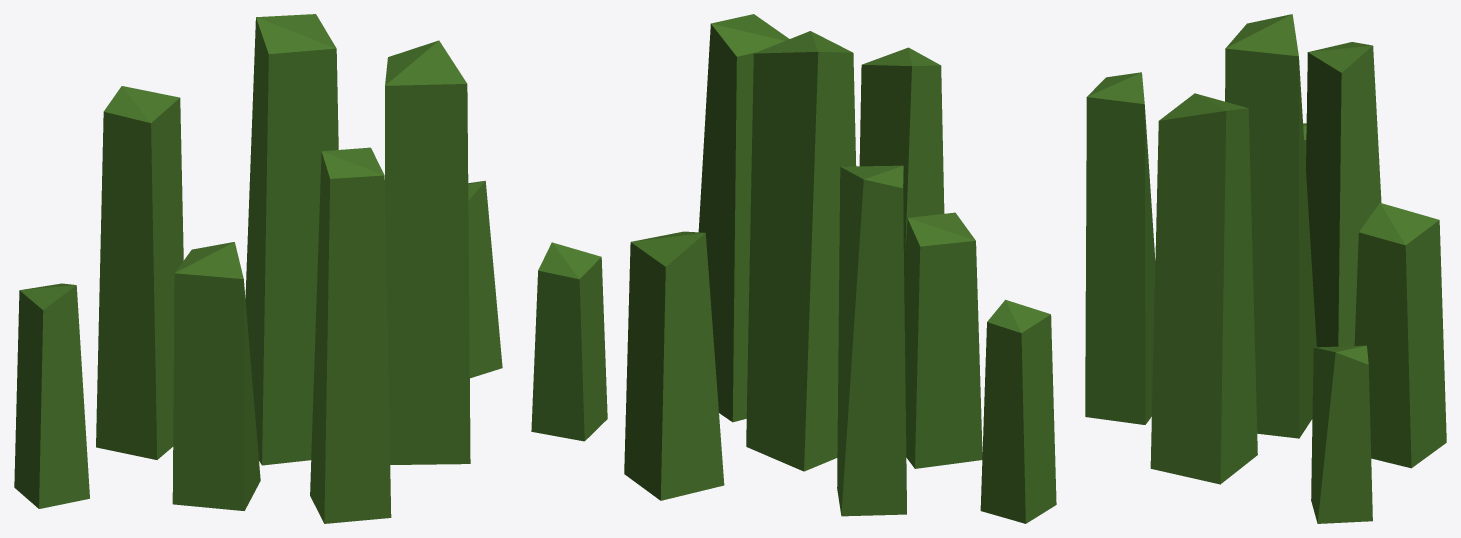
The model's file is Grass 2.glb.
The picture shows the model from 3 angles, left to right: view 1: azimuth 30°, elevation 25°; view 2: azimuth 150°, elevation 25°; view 3: azimuth 270°, elevation 25°; orthographic projection. The views are drawn at different scales.
Visible parts, largest first — view 1: Grass_2; view 2: Grass_2; view 3: Grass_2.
Part boxes in pixels (<box>): Grass_2: <box>14,14,502,523</box>; Grass_2: <box>531,14,1056,523</box>; Grass_2: <box>1085,14,1446,523</box>.
Size of the model in its own units: 1.7 by 1.4 by 1.17.
1 material, 1 textured.
